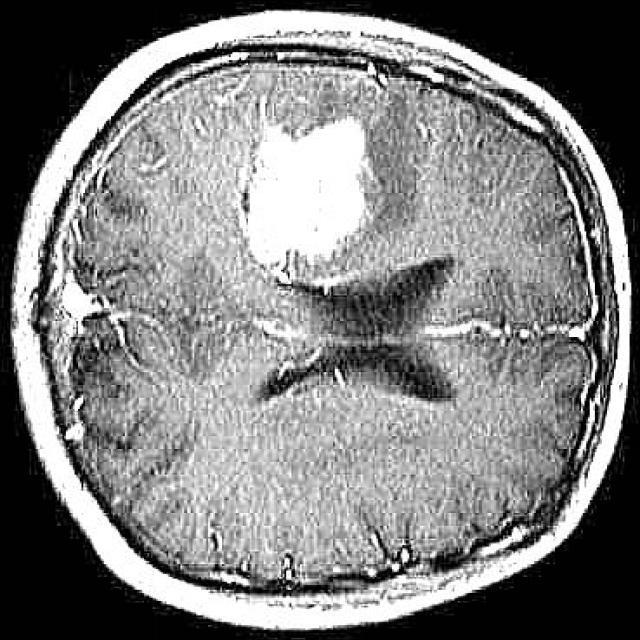tumor: (250, 122, 369, 262)
